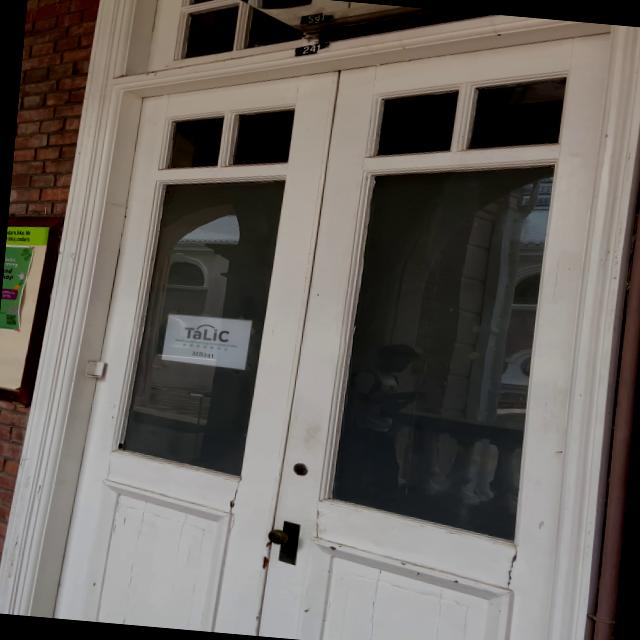room241: (290, 36, 332, 60)
